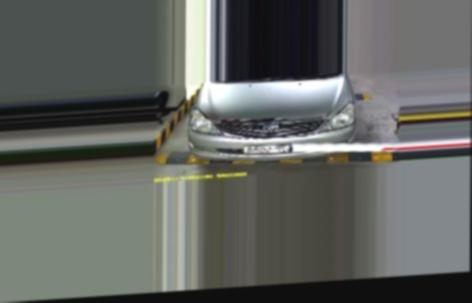License_Plate: (241, 139, 293, 157)
